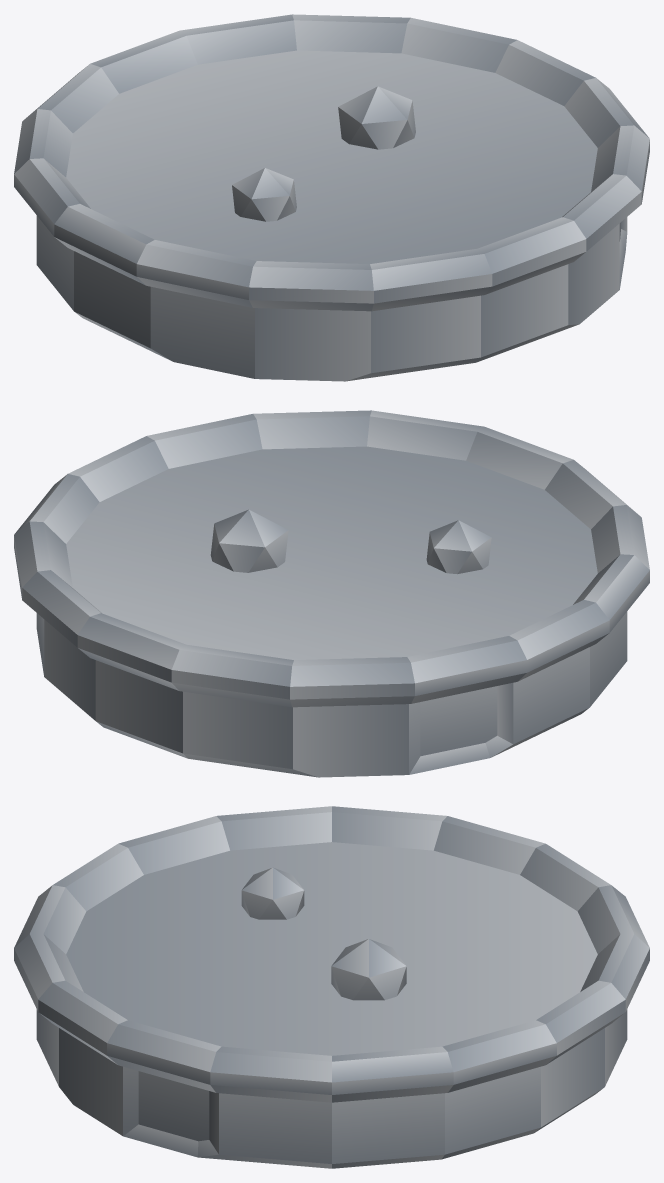
The model's file is dt_paddling_pool.fbx.
3 views of the same model, one above another, from view 1: azimuth 30°, elevation 25°; view 2: azimuth 150°, elevation 25°; view 3: azimuth 270°, elevation 25° (orthographic).
Parts seen in each view (by area): view 1: dt_paddling_pool; view 2: dt_paddling_pool; view 3: dt_paddling_pool.
Boxes of the visible parts, bbox=[...] form: dt_paddling_pool: bbox=[14, 14, 649, 381]; dt_paddling_pool: bbox=[14, 410, 649, 777]; dt_paddling_pool: bbox=[14, 806, 649, 1168].
Bounding box in the file's own units: 800 × 195 × 800.
